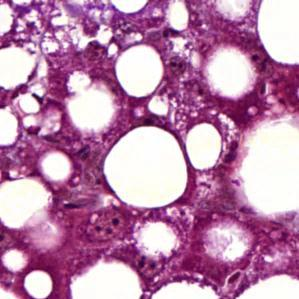steatosis: (102, 127, 191, 214), (111, 43, 167, 98)
